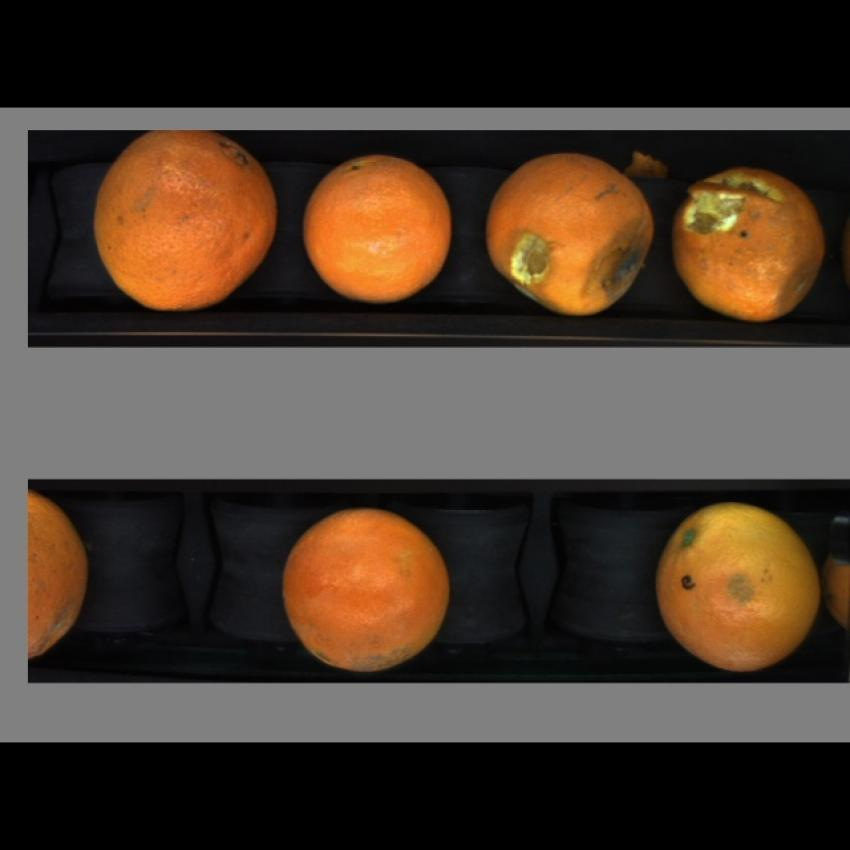Buen estado: (300, 145, 458, 309)
Mal estado: (86, 132, 284, 316), (648, 489, 831, 674), (279, 507, 466, 676), (483, 151, 659, 314), (673, 158, 827, 321), (30, 488, 98, 665)
